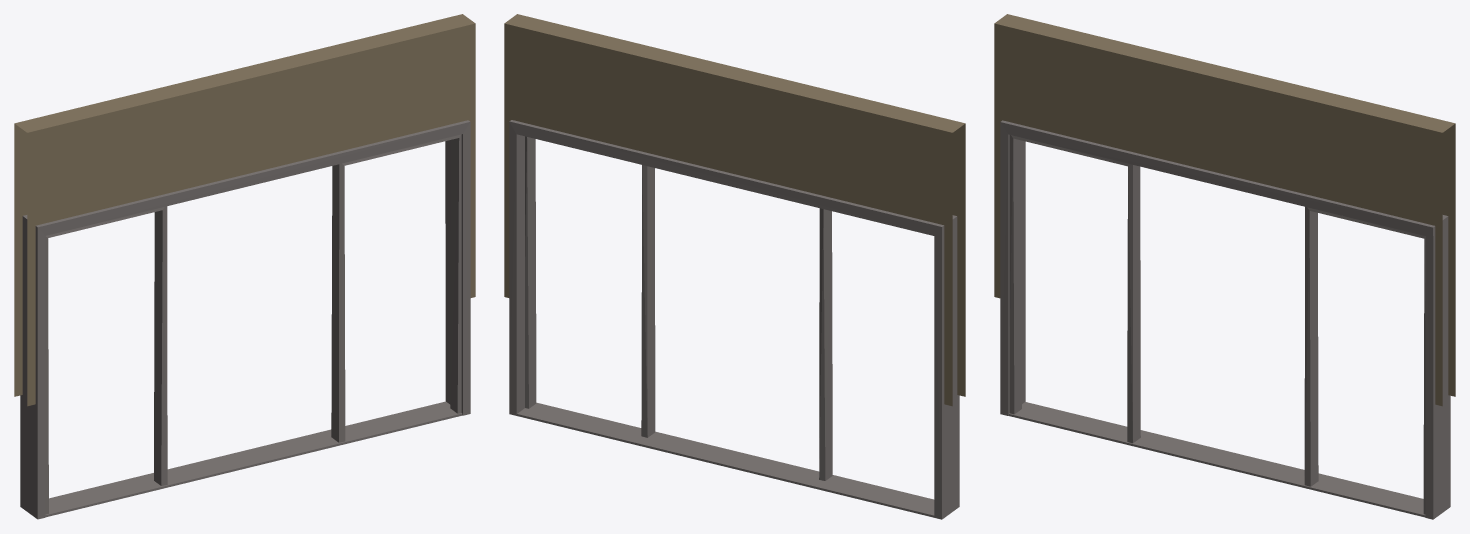
File: SM_DoorFrame_C_400.fbx
3 renders of one model, left to right at view 1: azimuth 30°, elevation 25°; view 2: azimuth 150°, elevation 25°; view 3: azimuth 330°, elevation 25°, orthographic.
Parts seen in each view (by area): view 1: SM_DoorFrame_C_400; view 2: SM_DoorFrame_C_400; view 3: SM_DoorFrame_C_400.
Part boxes in pixels (left/top/right/bottom): SM_DoorFrame_C_400: left=14, top=14, right=475, bottom=519; SM_DoorFrame_C_400: left=504, top=14, right=965, bottom=519; SM_DoorFrame_C_400: left=994, top=14, right=1455, bottom=519.
Size of the model in its own units: 400 by 330 by 27.28.
4 materials, 4 textured.
